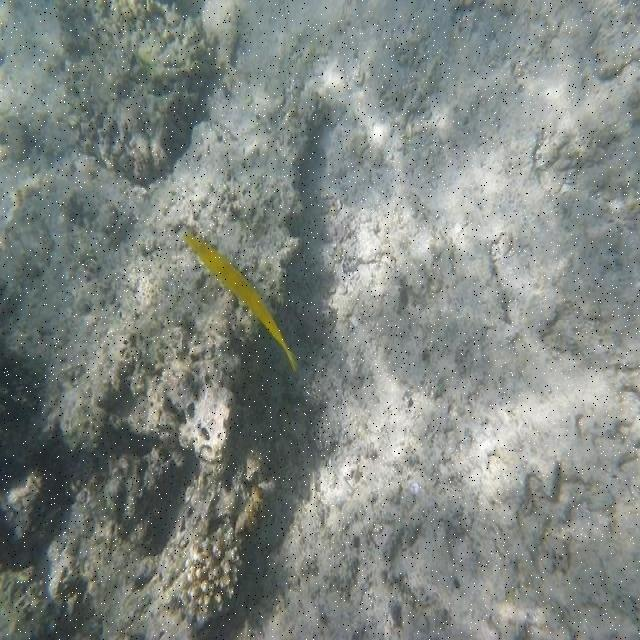fish: (185, 234, 298, 368)
reefs: (182, 523, 243, 615)
